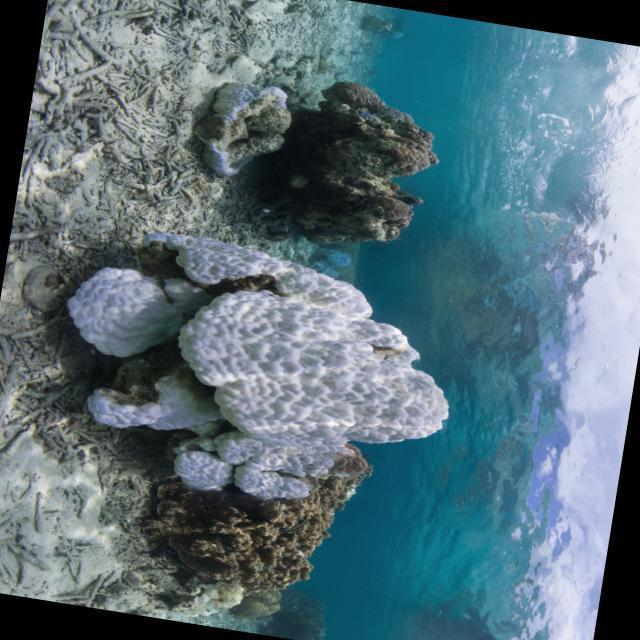Bleached Coral: (56, 210, 511, 483), (155, 431, 344, 514), (208, 71, 298, 132), (464, 547, 469, 553)
Dead Coral: (19, 0, 224, 201), (286, 75, 445, 257), (15, 411, 113, 480), (0, 316, 60, 416)
